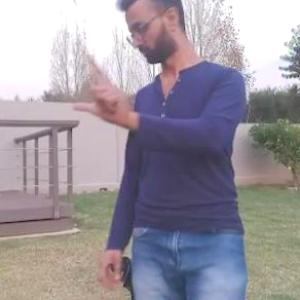land_hand: (68, 52, 134, 126)
